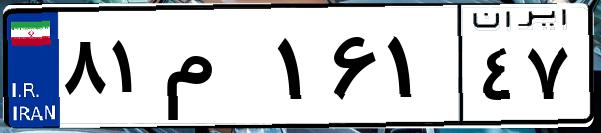1: (270, 28, 330, 110), (385, 28, 445, 110), (110, 28, 158, 98)
4: (475, 38, 525, 113)
6: (330, 28, 385, 110)
7: (525, 38, 570, 115)
8: (57, 26, 110, 100)
م: (158, 20, 270, 120)
